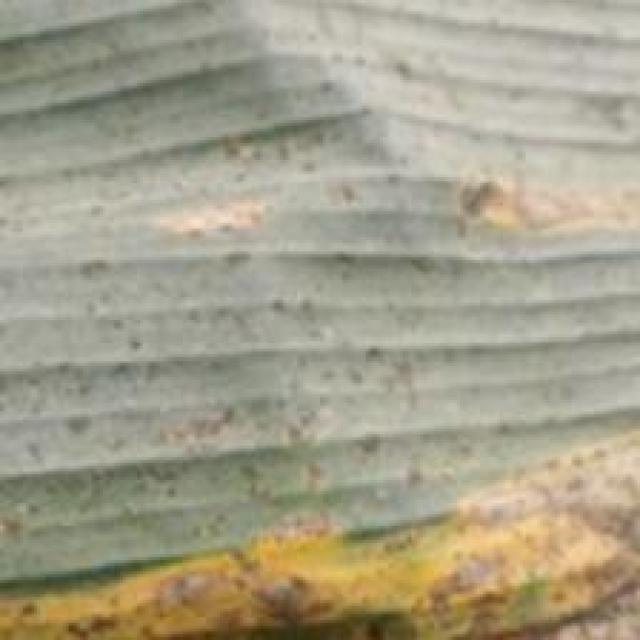Downey_mildrew: (0, 457, 640, 640), (433, 168, 640, 296), (113, 193, 290, 281)
